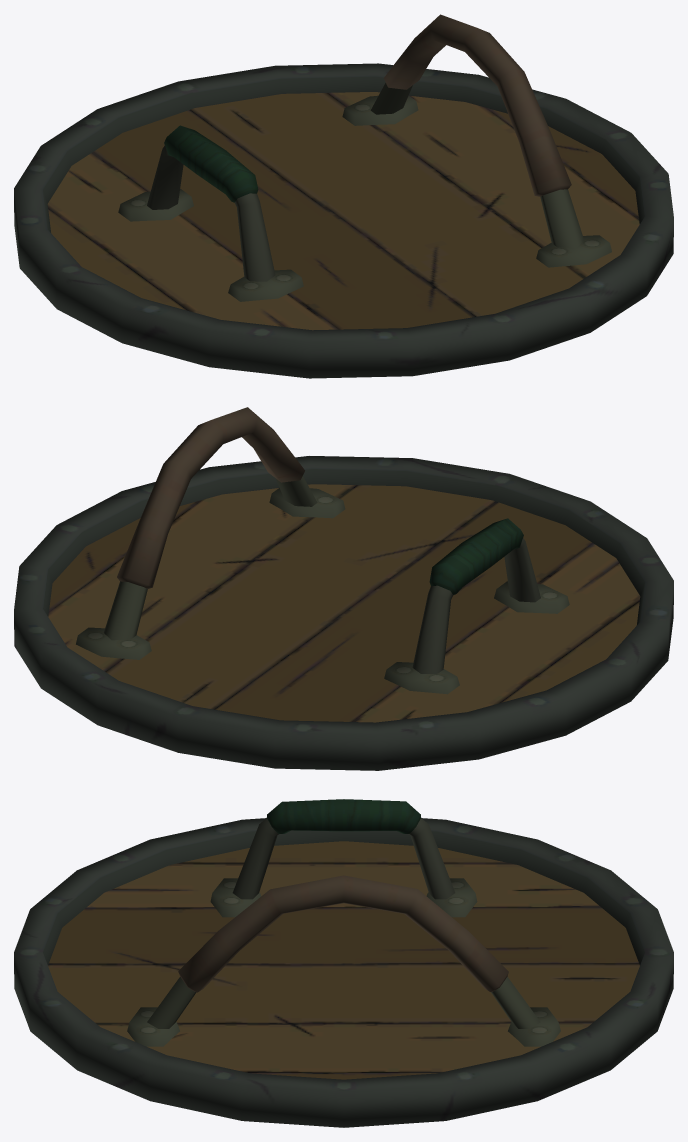
Rendered from Weapon_Shield_031.glb.
3 renders of one model, top to bottom at view 1: azimuth 30°, elevation 25°; view 2: azimuth 150°, elevation 25°; view 3: azimuth 270°, elevation 25°, orthographic.
Parts seen in each view (by area): view 1: Weapon_Shield_031; view 2: Weapon_Shield_031; view 3: Weapon_Shield_031.
Part boxes in pixels (x1,y1,x2,y2): Weapon_Shield_031: (14,14,673,378); Weapon_Shield_031: (14,407,673,770); Weapon_Shield_031: (14,799,673,1127).
Size of the model in its own units: 0.5905 by 0.1966 by 0.5903.
1 material, 1 textured.
